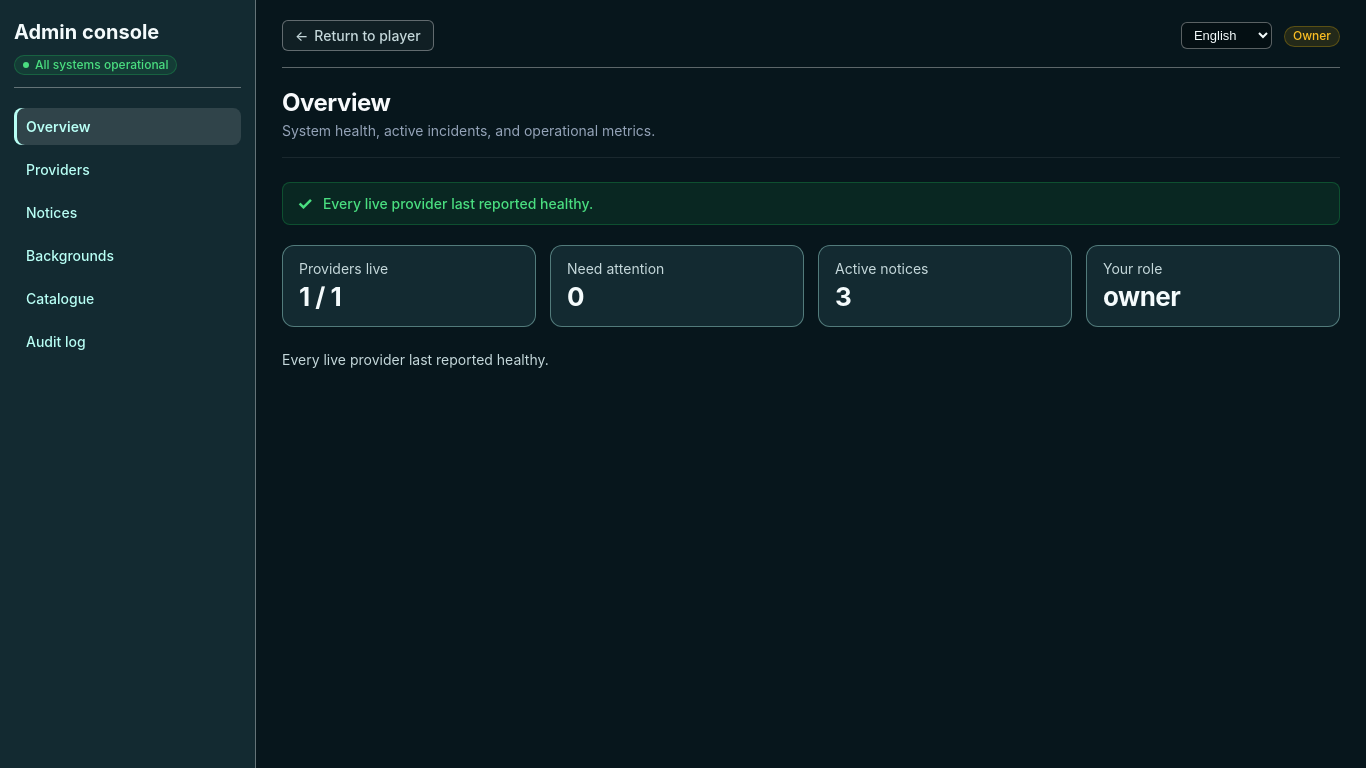
Test: AdminShell › updates ChKSz Owner fallback without changing the global provider toggle
The image size is (1366, 768).
Click the link "Providers".
click(58, 170)  # box [26,161,90,178]
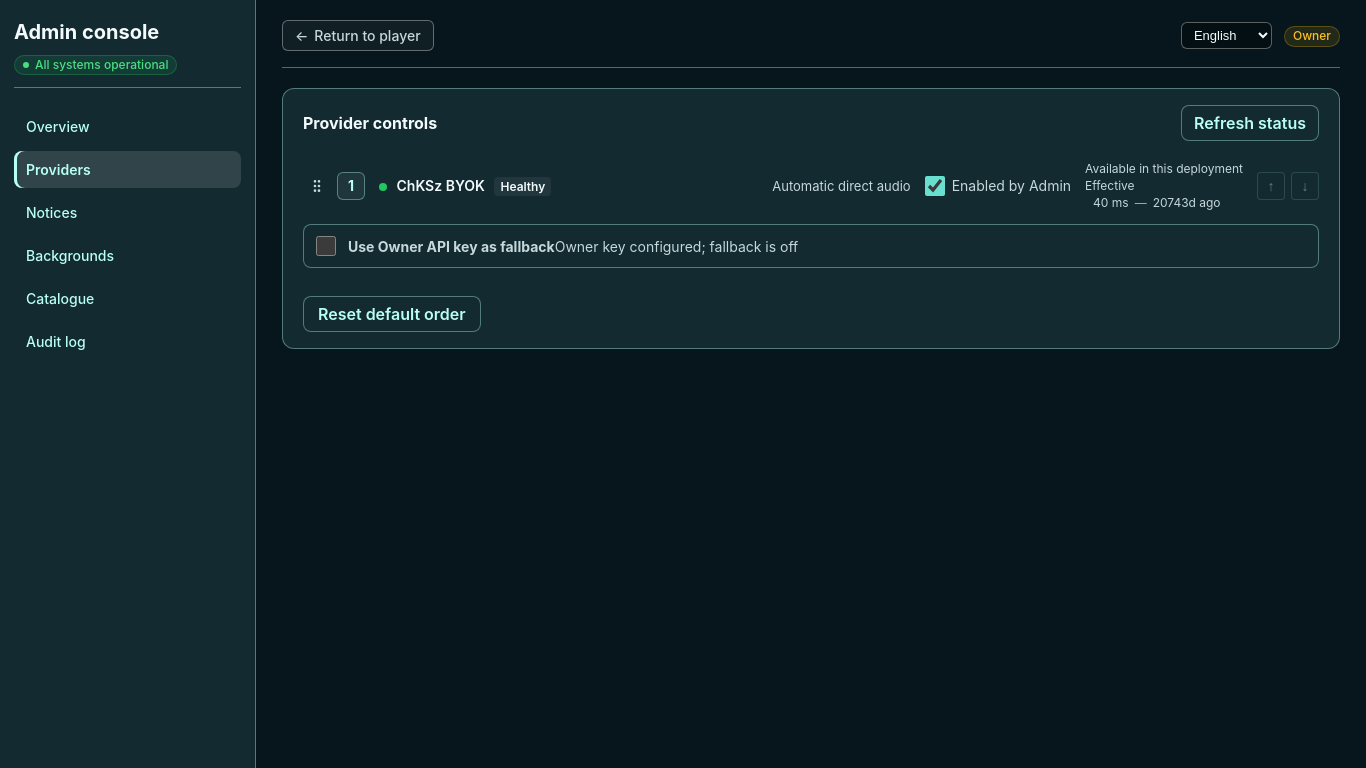
Click the 2nd checkbox.
click(326, 246)  # box [316,236,336,256]
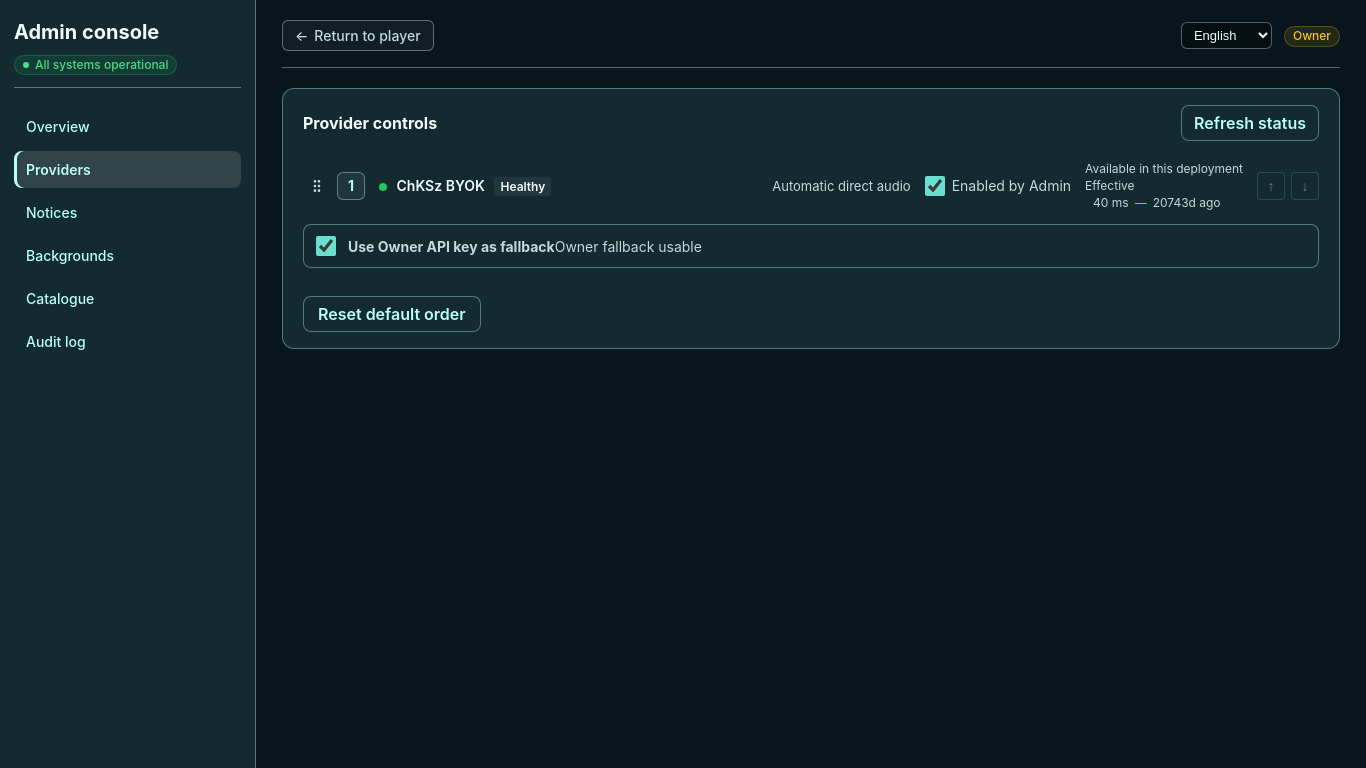
Result: the 2nd checkbox is checked at [316,236,336,256]
Result: the checkbox labelled "Enabled by Admin" is checked at [925,176,945,196]
Result: the label that starts with "Use Owner API key as fallback" shows "Owner fallback usable" at [555,238,702,254]
